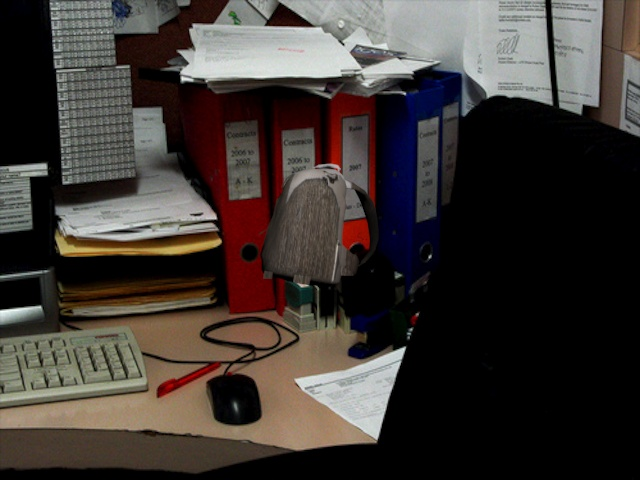back_pack: (257, 161, 384, 288)
